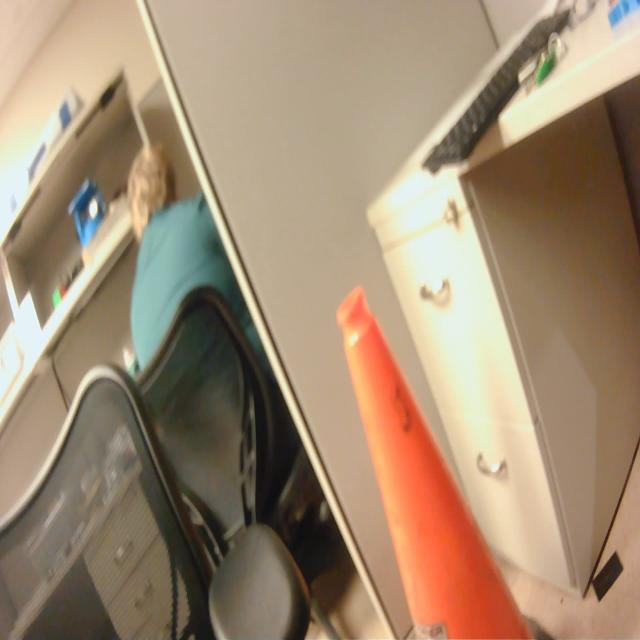traffic cone: (333, 281, 559, 640)
